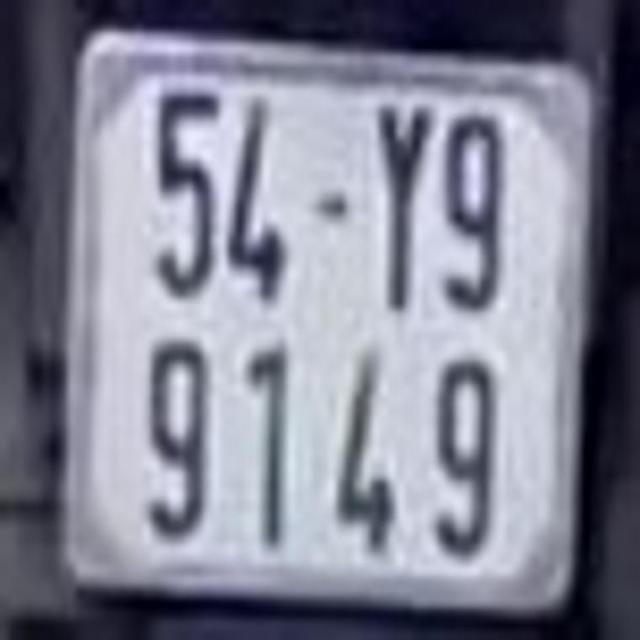1: (237, 344, 286, 551)
4: (228, 97, 286, 297), (336, 353, 395, 545)
5: (156, 95, 214, 292)
9: (147, 343, 217, 539), (432, 360, 494, 555), (444, 115, 504, 306)
Y: (373, 106, 427, 312)
